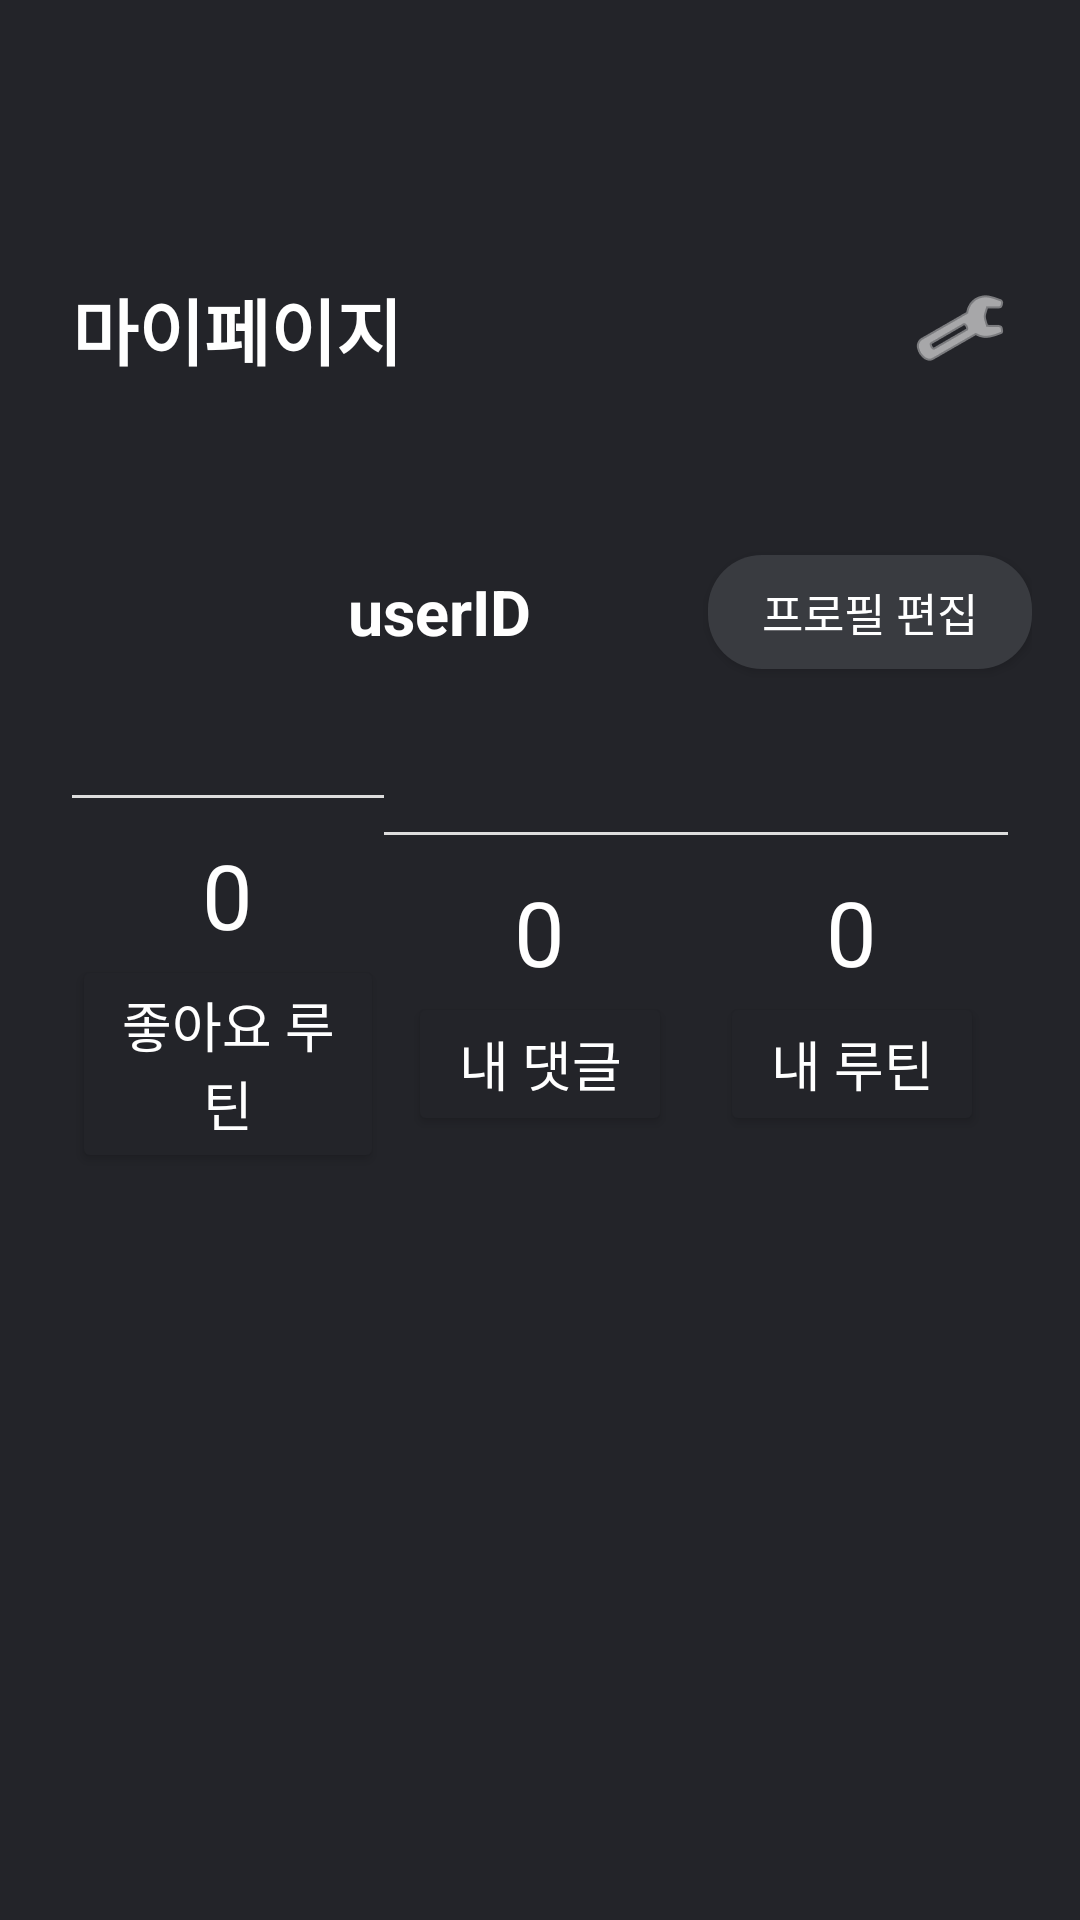

Point at icon controls on the screen. Image size 1080w x 1920h, points as [x,y].
설정: [960,328]
